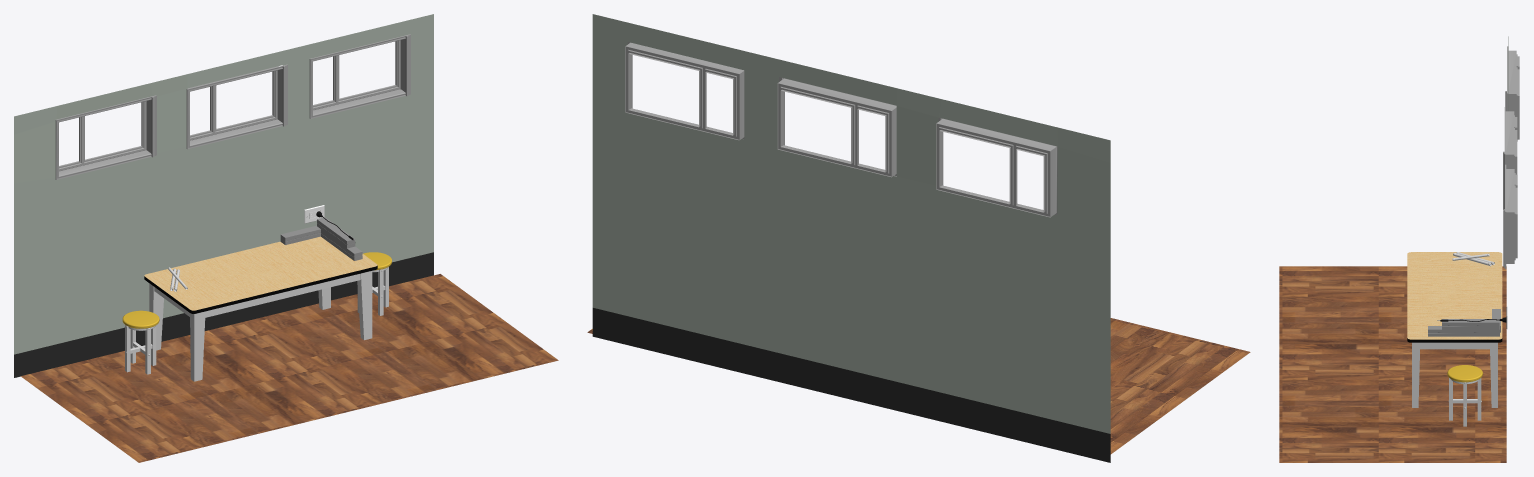
The model's file is LaboratorioL4P1.fbx.
3 views of the same model, side by side, from view 1: azimuth 30°, elevation 25°; view 2: azimuth 150°, elevation 25°; view 3: azimuth 270°, elevation 25° (orthographic). The views are drawn at different scales.
Parts seen in each view (by area): view 1: Plano.003, Plano.004, Mesa.001, Ventana.006, Ventana.004, Ventana.005, Patas.017, Patas.015; view 2: Plano.003, Plano.004, Ventana.005, Ventana.006, Ventana.004; view 3: Plano.004, Mesa.001, Ventana.004, Patas.015, Ventana.005, Ventana.006, Cubo.002, Cubo.001.
Part boxes in pixels (left/top/right/bottom): Plano.003: left=14, top=14, right=433, bottom=377; Plano.004: left=21, top=274, right=558, bottom=462; Mesa.001: left=144, top=236, right=377, bottom=381; Ventana.006: left=186, top=64, right=287, bottom=149; Ventana.004: left=309, top=34, right=410, bottom=118; Ventana.005: left=55, top=95, right=156, bottom=179; Patas.017: left=122, top=310, right=159, bottom=374; Patas.015: left=357, top=252, right=391, bottom=315; Plano.003: left=592, top=14, right=1110, bottom=462; Plano.004: left=587, top=318, right=1250, bottom=454; Ventana.005: left=936, top=117, right=1057, bottom=217; Ventana.006: left=777, top=77, right=896, bottom=177; Ventana.004: left=625, top=42, right=744, bottom=140; Plano.004: left=1279, top=266, right=1506, bottom=462; Mesa.001: left=1407, top=252, right=1502, bottom=407; Ventana.004: left=1503, top=164, right=1517, bottom=269; Patas.015: left=1447, top=365, right=1482, bottom=426; Ventana.005: left=1505, top=46, right=1519, bottom=141; Ventana.006: left=1503, top=107, right=1517, bottom=209; Cubo.002: left=1442, top=319, right=1499, bottom=329; Cubo.001: left=1428, top=326, right=1499, bottom=336.
Size of the model in its own units: 1327 by 780 by 677.
